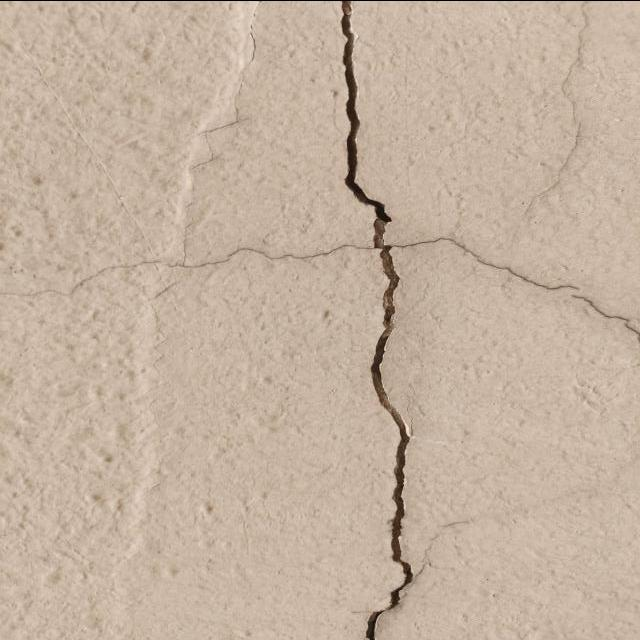SurfaceCrack: (321, 194, 435, 640)
